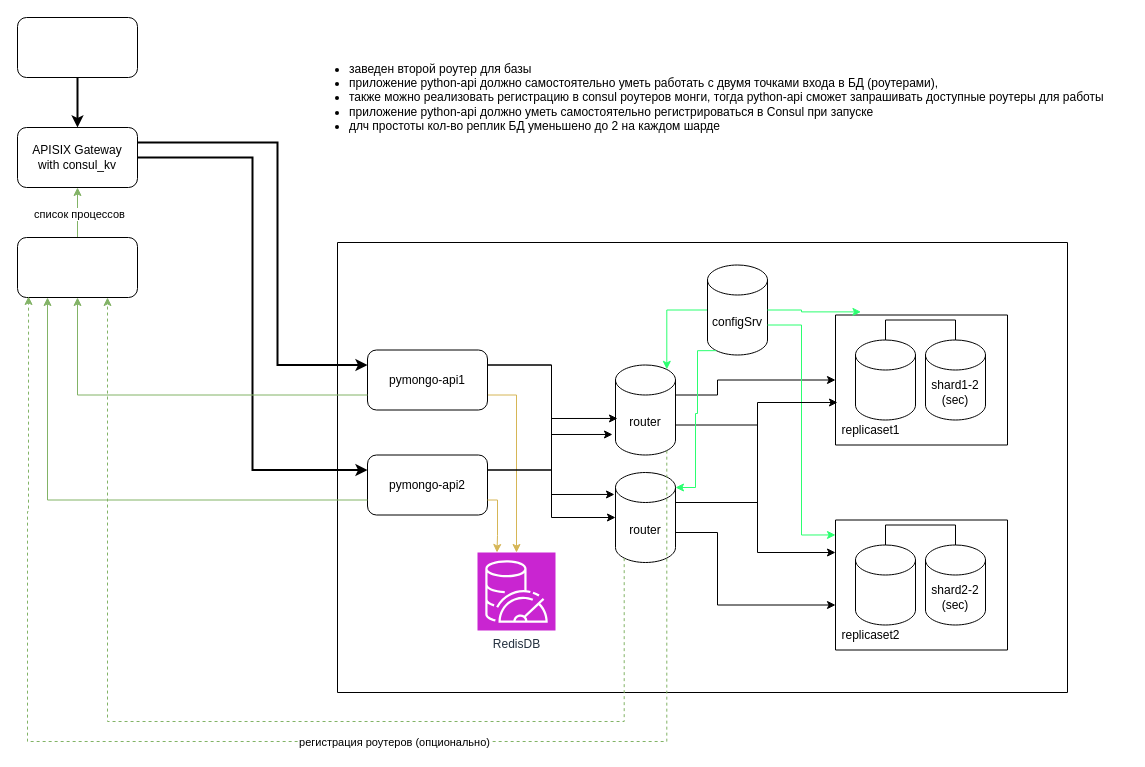
Some shapes in this 1145 by 767 pixel diagram are drawn without their labels. The shapes that lost their labels are listed below. From the top down, each one's centre as x and y in pixels, then its label:
At pixel 77 47: "NGINX".
At pixel 77 267: "Consul".
At pixel 885 379: "shard1-1".
At pixel 885 584: "shard2-1".
